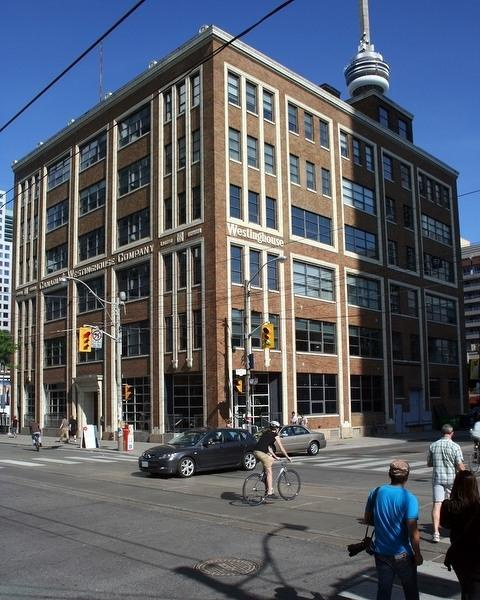non-vehicle: (240, 457, 302, 506), (467, 439, 479, 474), (31, 434, 41, 451)
